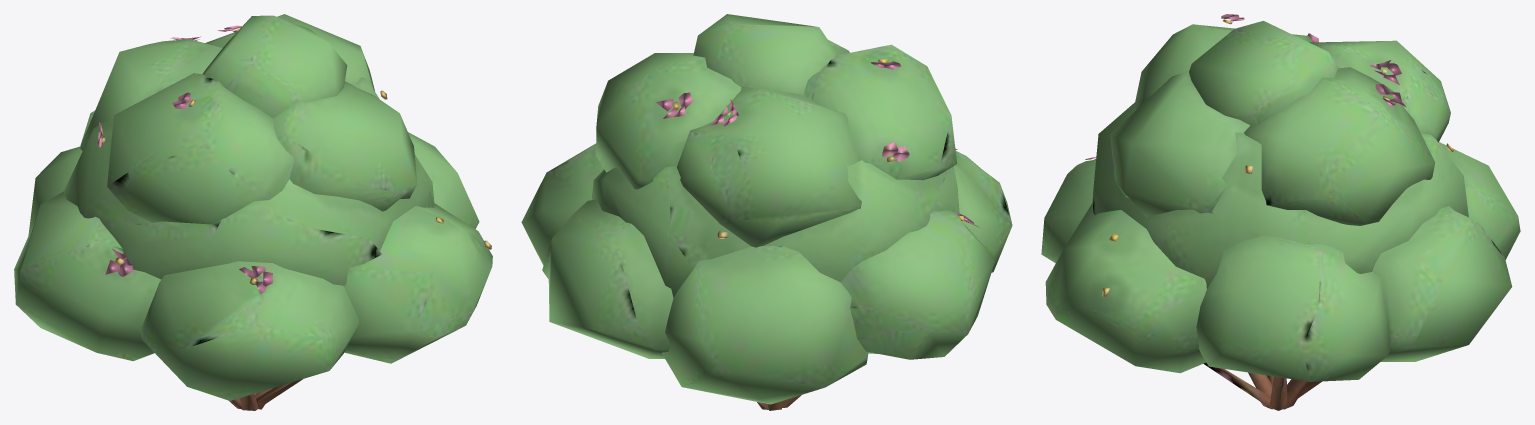
File: bush.glb
The picture shows the model from 3 angles, left to right: view 1: azimuth 30°, elevation 25°; view 2: azimuth 150°, elevation 25°; view 3: azimuth 270°, elevation 25°; orthographic projection.
Visible parts, largest first — view 1: bush_body; view 2: bush_body; view 3: bush_body.
Part boxes in pixels (<box>): bush_body: <box>14,14,492,410</box>; bush_body: <box>521,14,1012,410</box>; bush_body: <box>1041,14,1520,410</box>.
Bounding box in the file's own units: 1.32 × 1.09 × 1.26.
Materials: 1 (1 with a texture image).
